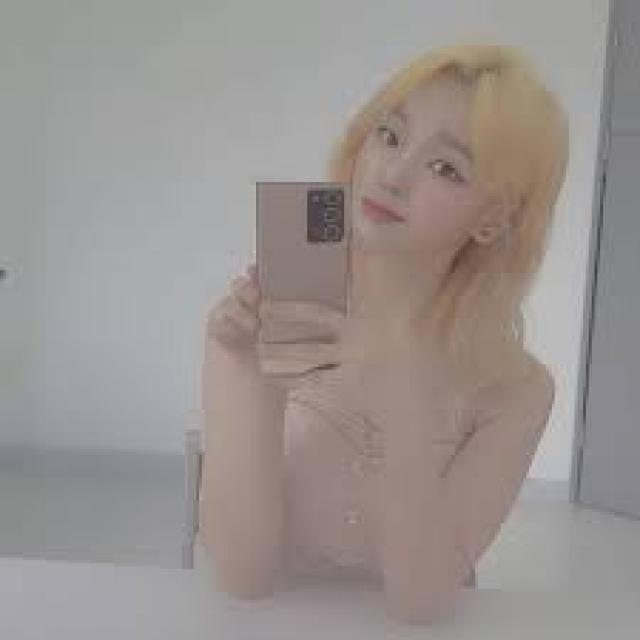Phone: (252, 180, 355, 368)
